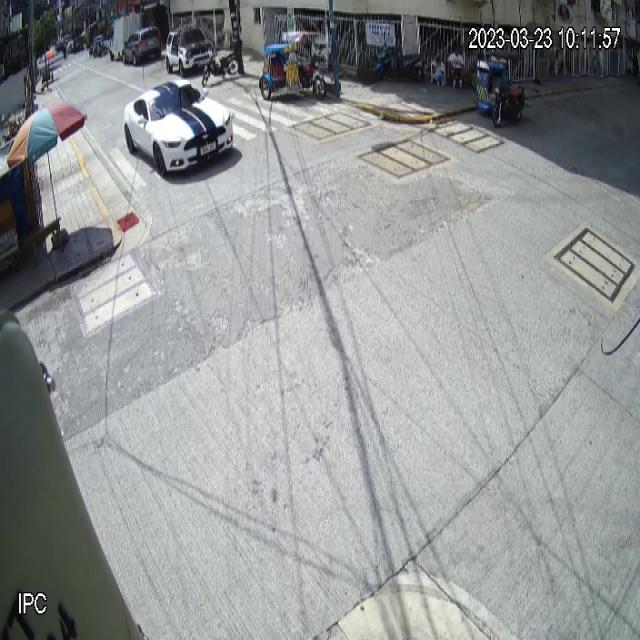Car: (123, 80, 236, 177)
Tricycle: (258, 31, 327, 101), (475, 51, 529, 127)
